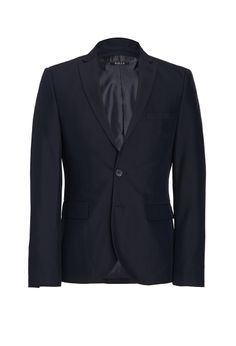F_M_suit jacket: (24, 37, 206, 293)
